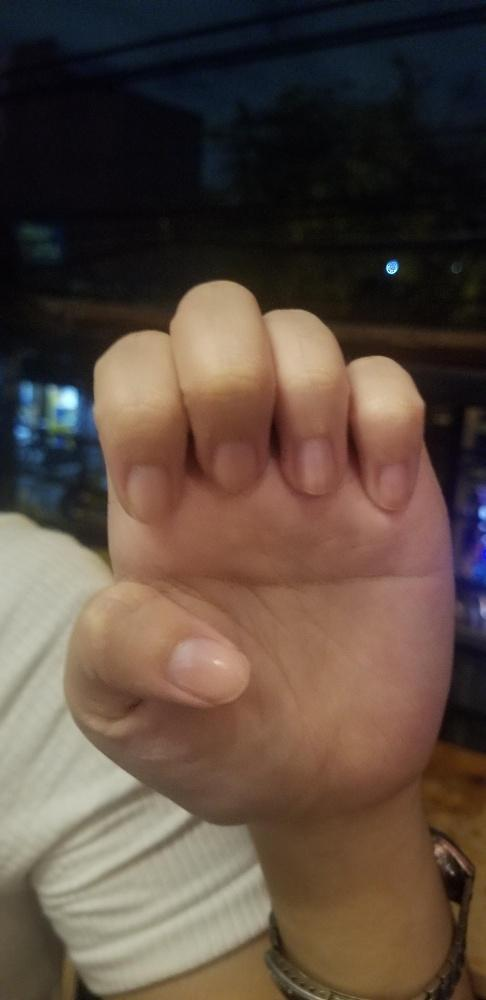e: (60, 279, 454, 826)
